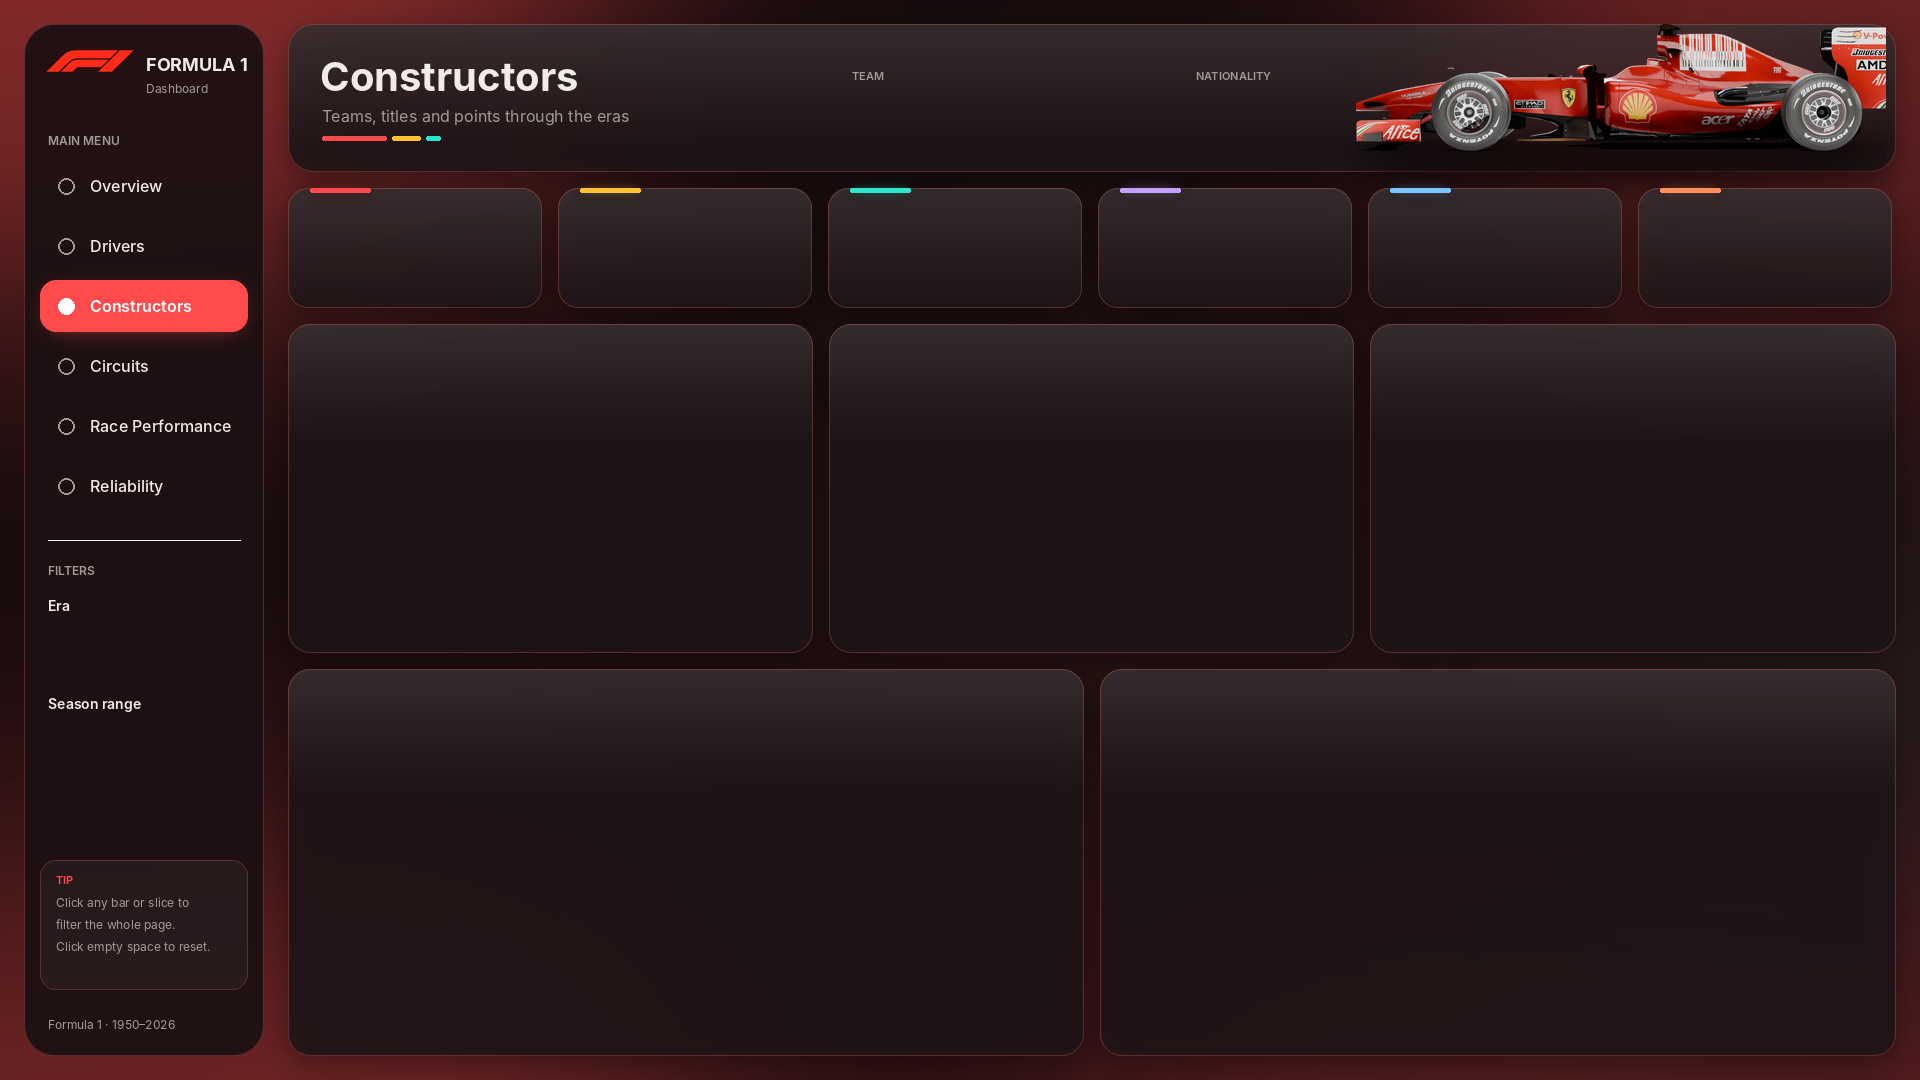

What the dashboard file says about the page in this screenshot:
{"tool":"powerbi","page":{"name":"Constructors","canvas":[1920,1080],"ordinal":2},"visuals":[{"type":"actionButton","box":[40,160,208,52],"z":1000},{"type":"actionButton","box":[40,220,208,52],"z":2000},{"type":"actionButton","box":[40,280,208,52],"z":3000},{"type":"actionButton","box":[40,340,208,52],"z":4000},{"type":"actionButton","box":[40,400,208,52],"z":5000},{"type":"actionButton","box":[40,460,208,52],"z":6000},{"type":"slicer","fields":{"Values":["dim_race.era"]},"box":[40,622,208,44],"z":7000},{"type":"slicer","fields":{"Values":["dim_race.year"]},"box":[40,724,208,96],"z":8000},{"type":"slicer","fields":{"Values":["dim_constructor.constructor_name"]},"box":[848,90,328,40],"z":9000},{"type":"slicer","fields":{"Values":["dim_constructor.nationality"]},"box":[1192,90,328,40],"z":10000},{"type":"card","fields":{"Values":["_Measures.Starts"]},"box":[300,202,230,96],"z":11000},{"type":"card","fields":{"Values":["_Measures.Wins"]},"box":[570,202,230,96],"z":12000},{"type":"card","fields":{"Values":["_Measures.Podiums"]},"box":[840,202,230,96],"z":13000},{"type":"card","fields":{"Values":["_Measures.Poles"]},"box":[1110,202,230,96],"z":14000},{"type":"card","fields":{"Values":["_Measures.Constructor Titles"]},"box":[1380,202,230,96],"z":15000},{"type":"card","fields":{"Values":["_Measures.Total Points"]},"box":[1650,202,230,96],"z":16000},{"type":"clusteredBarChart","title":"Top 10 by wins","fields":{"Category":["dim_constructor.constructor_name"],"Y":["_Measures.Wins"]},"box":[300,336,501,305],"z":17000},{"type":"clusteredBarChart","title":"Top 10 by constructor titles","fields":{"Category":["dim_constructor.constructor_name"],"Y":["_Measures.Constructor Titles"]},"box":[841,336,501,305],"z":18000},{"type":"clusteredColumnChart","title":"Points by era","fields":{"Category":["dim_race.era"],"Y":["_Measures.Total Points"]},"box":[1382,336,502,305],"z":19000},{"type":"areaChart","title":"Wins by season","fields":{"Category":["dim_race.year"],"Y":["_Measures.Wins"]},"box":[300,681,772,363],"z":20000},{"type":"tableEx","title":"Constructor scoreboard","fields":{"Values":["dim_constructor.constructor_name","dim_constructor.nationality","_Measures.Starts","_Measures.Wins","_Measures.Poles","_Measures.Constructor Titles"]},"box":[1112,681,772,363],"z":21000}]}

Visuals, with their boxes on the page's 1920x1080 design canvas (x1, y1, x2, y2). These are canvas units, not pixel positions in the 1920x1080 screenshot, which may show the page scaled, cropped or inside an application window:
actionButton: 40,160,248,212
actionButton: 40,220,248,272
actionButton: 40,280,248,332
actionButton: 40,340,248,392
actionButton: 40,400,248,452
actionButton: 40,460,248,512
slicer - dim_race.era: 40,622,248,666
slicer - dim_race.year: 40,724,248,820
slicer - dim_constructor.constructor_name: 848,90,1176,130
slicer - dim_constructor.nationality: 1192,90,1520,130
card - _Measures.Starts: 300,202,530,298
card - _Measures.Wins: 570,202,800,298
card - _Measures.Podiums: 840,202,1070,298
card - _Measures.Poles: 1110,202,1340,298
card - _Measures.Constructor Titles: 1380,202,1610,298
card - _Measures.Total Points: 1650,202,1880,298
"Top 10 by wins" clusteredBarChart: 300,336,801,641
"Top 10 by constructor titles" clusteredBarChart: 841,336,1342,641
"Points by era" clusteredColumnChart: 1382,336,1884,641
"Wins by season" areaChart: 300,681,1072,1044
"Constructor scoreboard" tableEx: 1112,681,1884,1044
